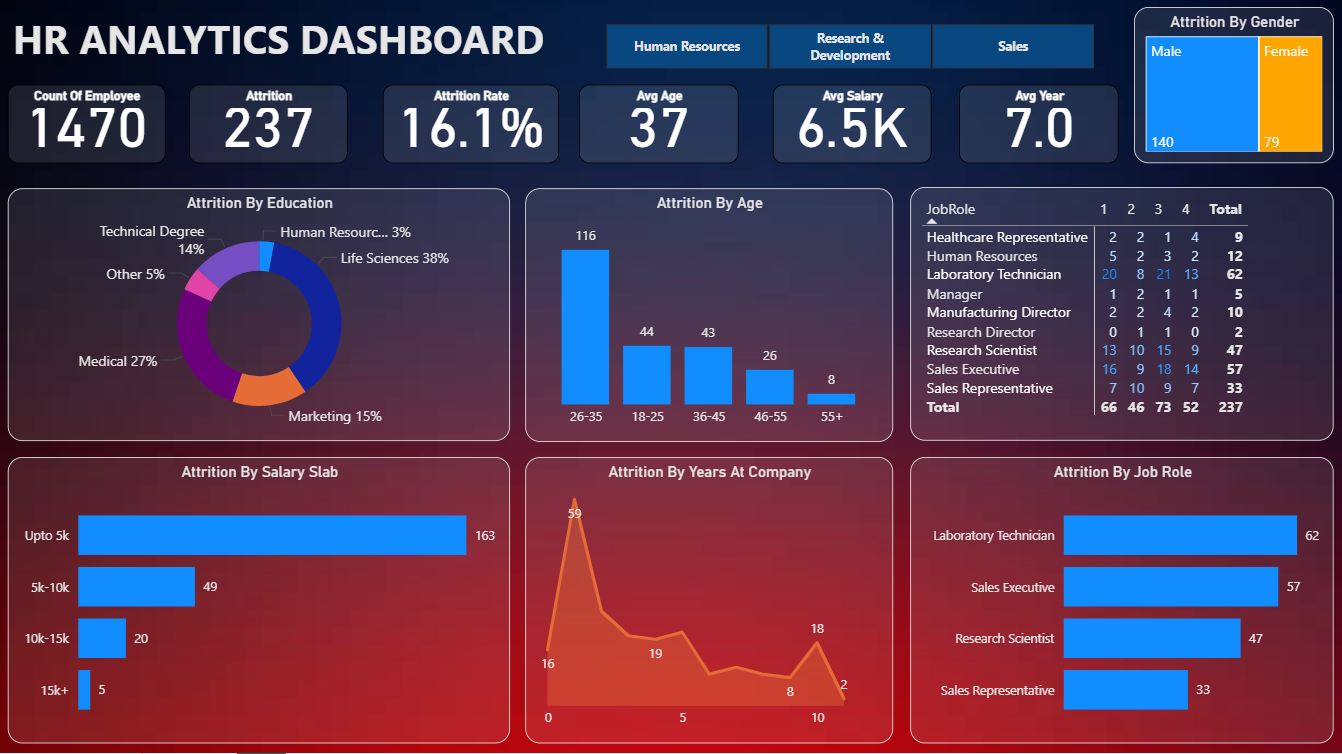

What the dashboard file says about the page in this screenshot:
{"tool":"powerbi","page":{"name":"Page 1","canvas":[1280,720],"ordinal":0},"visuals":[{"type":"card","title":"Count Of Employee","fields":{"Values":["CountNonNull(HR_Analytics.EmpID)"]},"box":[8.3,83.3,150,75],"z":0},{"type":"card","title":"Attrition","fields":{"Values":["select","select1","Sum(HR_Analytics.AttritionCount)"]},"box":[181,83.3,151.2,75],"z":1000},{"type":"card","title":"Attrition Rate","fields":{"Values":["HR_Analytics.AttritionRate"]},"box":[365.5,83.3,167.9,75],"z":2000},{"type":"card","title":"Avg Age","fields":{"Values":["Avg(HR_Analytics.Age)"]},"box":[552.4,83.3,152.4,75],"z":3000},{"type":"card","title":"Avg Salary","fields":{"Values":["Avg(HR_Analytics.MonthlyIncome)"]},"box":[736.9,83.3,151.2,75],"z":4000},{"type":"card","title":"Avg Year","fields":{"Values":["Avg(HR_Analytics.YearsAtCompany)"]},"box":[914.3,83.3,152.4,75],"z":5000},{"type":"donutChart","title":"Attrition By Education","fields":{"Y":["Sum(HR_Analytics.AttritionCount)"],"Series":["HR_Analytics.EducationField"]},"box":[8.3,182.1,478.6,240.5],"z":6000},{"type":"columnChart","title":"Attrition By Age","fields":{"Category":["HR_Analytics.AgeGroup"],"Y":["Sum(HR_Analytics.AttritionCount)"]},"box":[501.2,182.1,350,241.7],"z":7000},{"type":"pivotTable","fields":{"Rows":["HR_Analytics.JobRole"],"Columns":["HR_Analytics.JobSatisfaction"],"Values":["Sum(HR_Analytics.AttritionCount)"]},"box":[867.9,181,403.6,241.7],"z":8000},{"type":"barChart","title":"Attrition By Salary Slab","fields":{"Category":["HR_Analytics.SalarySlab"],"Y":["Sum(HR_Analytics.AttritionCount)"]},"box":[8.3,438.1,478.6,272.6],"z":9000},{"type":"barChart","title":"Attrition By Job Role","fields":{"Category":["HR_Analytics.JobRole"],"Y":["Sum(HR_Analytics.AttritionCount)"]},"box":[867.9,438.1,403.6,272.6],"z":10000},{"type":"areaChart","title":"Attrition By Years At Company","fields":{"Category":["HR_Analytics.YearsAtCompany"],"Y":["Sum(HR_Analytics.AttritionCount)"]},"box":[501.2,438.1,350,272.6],"z":11000},{"type":"treemap","title":"Attrition By Gender","fields":{"Group":["HR_Analytics.Gender"],"Values":["Sum(HR_Analytics.AttritionCount)"]},"box":[1081,9.5,190.5,148.8],"z":12000},{"type":"slicer","fields":{"Values":["HR_Analytics.Department"]},"box":[552.4,19,514.3,54.8],"z":13000},{"type":"textbox","box":[8.3,9.5,533.3,64.3],"z":14000}]}

Visuals, with their boxes in screenshot pixels (x1, y1, x2, y2), scaled from the page's 1280x720 canvas onto the 1342x754 screenshot:
"Count Of Employee" card: locate(9, 87, 166, 166)
"Attrition" card: locate(190, 87, 348, 166)
"Attrition Rate" card: locate(383, 87, 559, 166)
"Avg Age" card: locate(579, 87, 739, 166)
"Avg Salary" card: locate(773, 87, 931, 166)
"Avg Year" card: locate(959, 87, 1118, 166)
"Attrition By Education" donutChart: locate(9, 191, 510, 443)
"Attrition By Age" columnChart: locate(525, 191, 892, 444)
pivotTable - HR_Analytics.JobRole x HR_Analytics.JobSatisfaction: locate(910, 190, 1333, 443)
"Attrition By Salary Slab" barChart: locate(9, 459, 510, 744)
"Attrition By Job Role" barChart: locate(910, 459, 1333, 744)
"Attrition By Years At Company" areaChart: locate(525, 459, 892, 744)
"Attrition By Gender" treemap: locate(1133, 10, 1333, 166)
slicer - HR_Analytics.Department: locate(579, 20, 1118, 77)
textbox: locate(9, 10, 568, 77)
